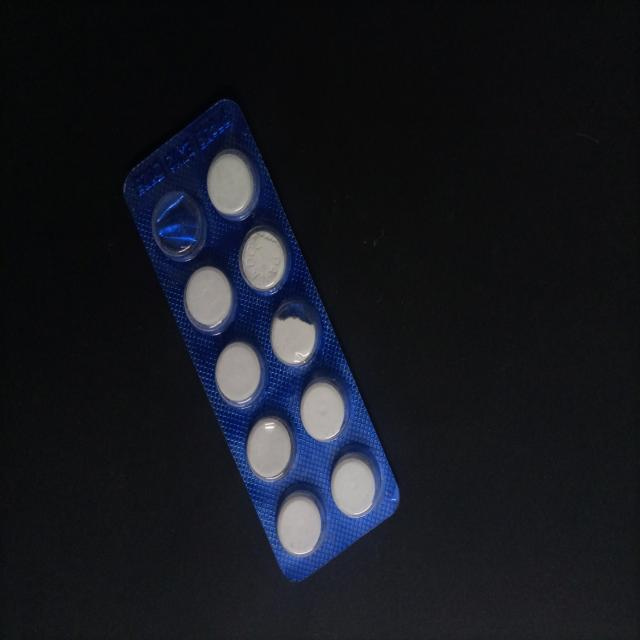defect: (150, 184, 209, 266), (266, 296, 322, 370)
